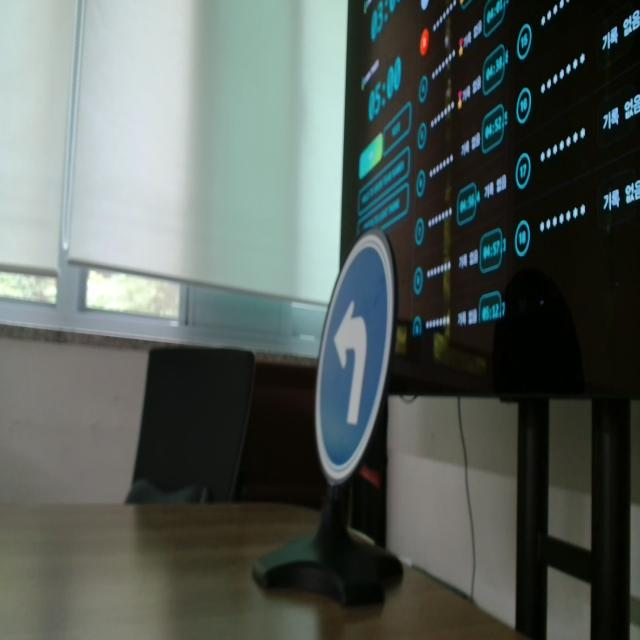left_direction: (301, 211, 417, 503)
